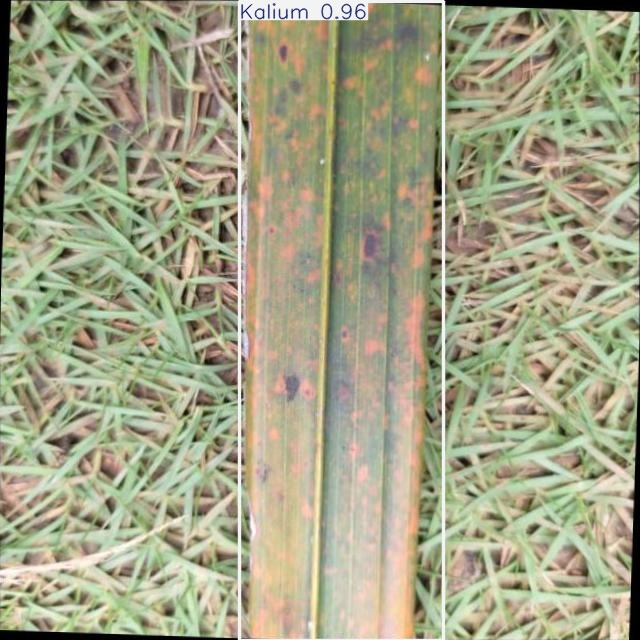Kalium: (239, 2, 443, 640)
